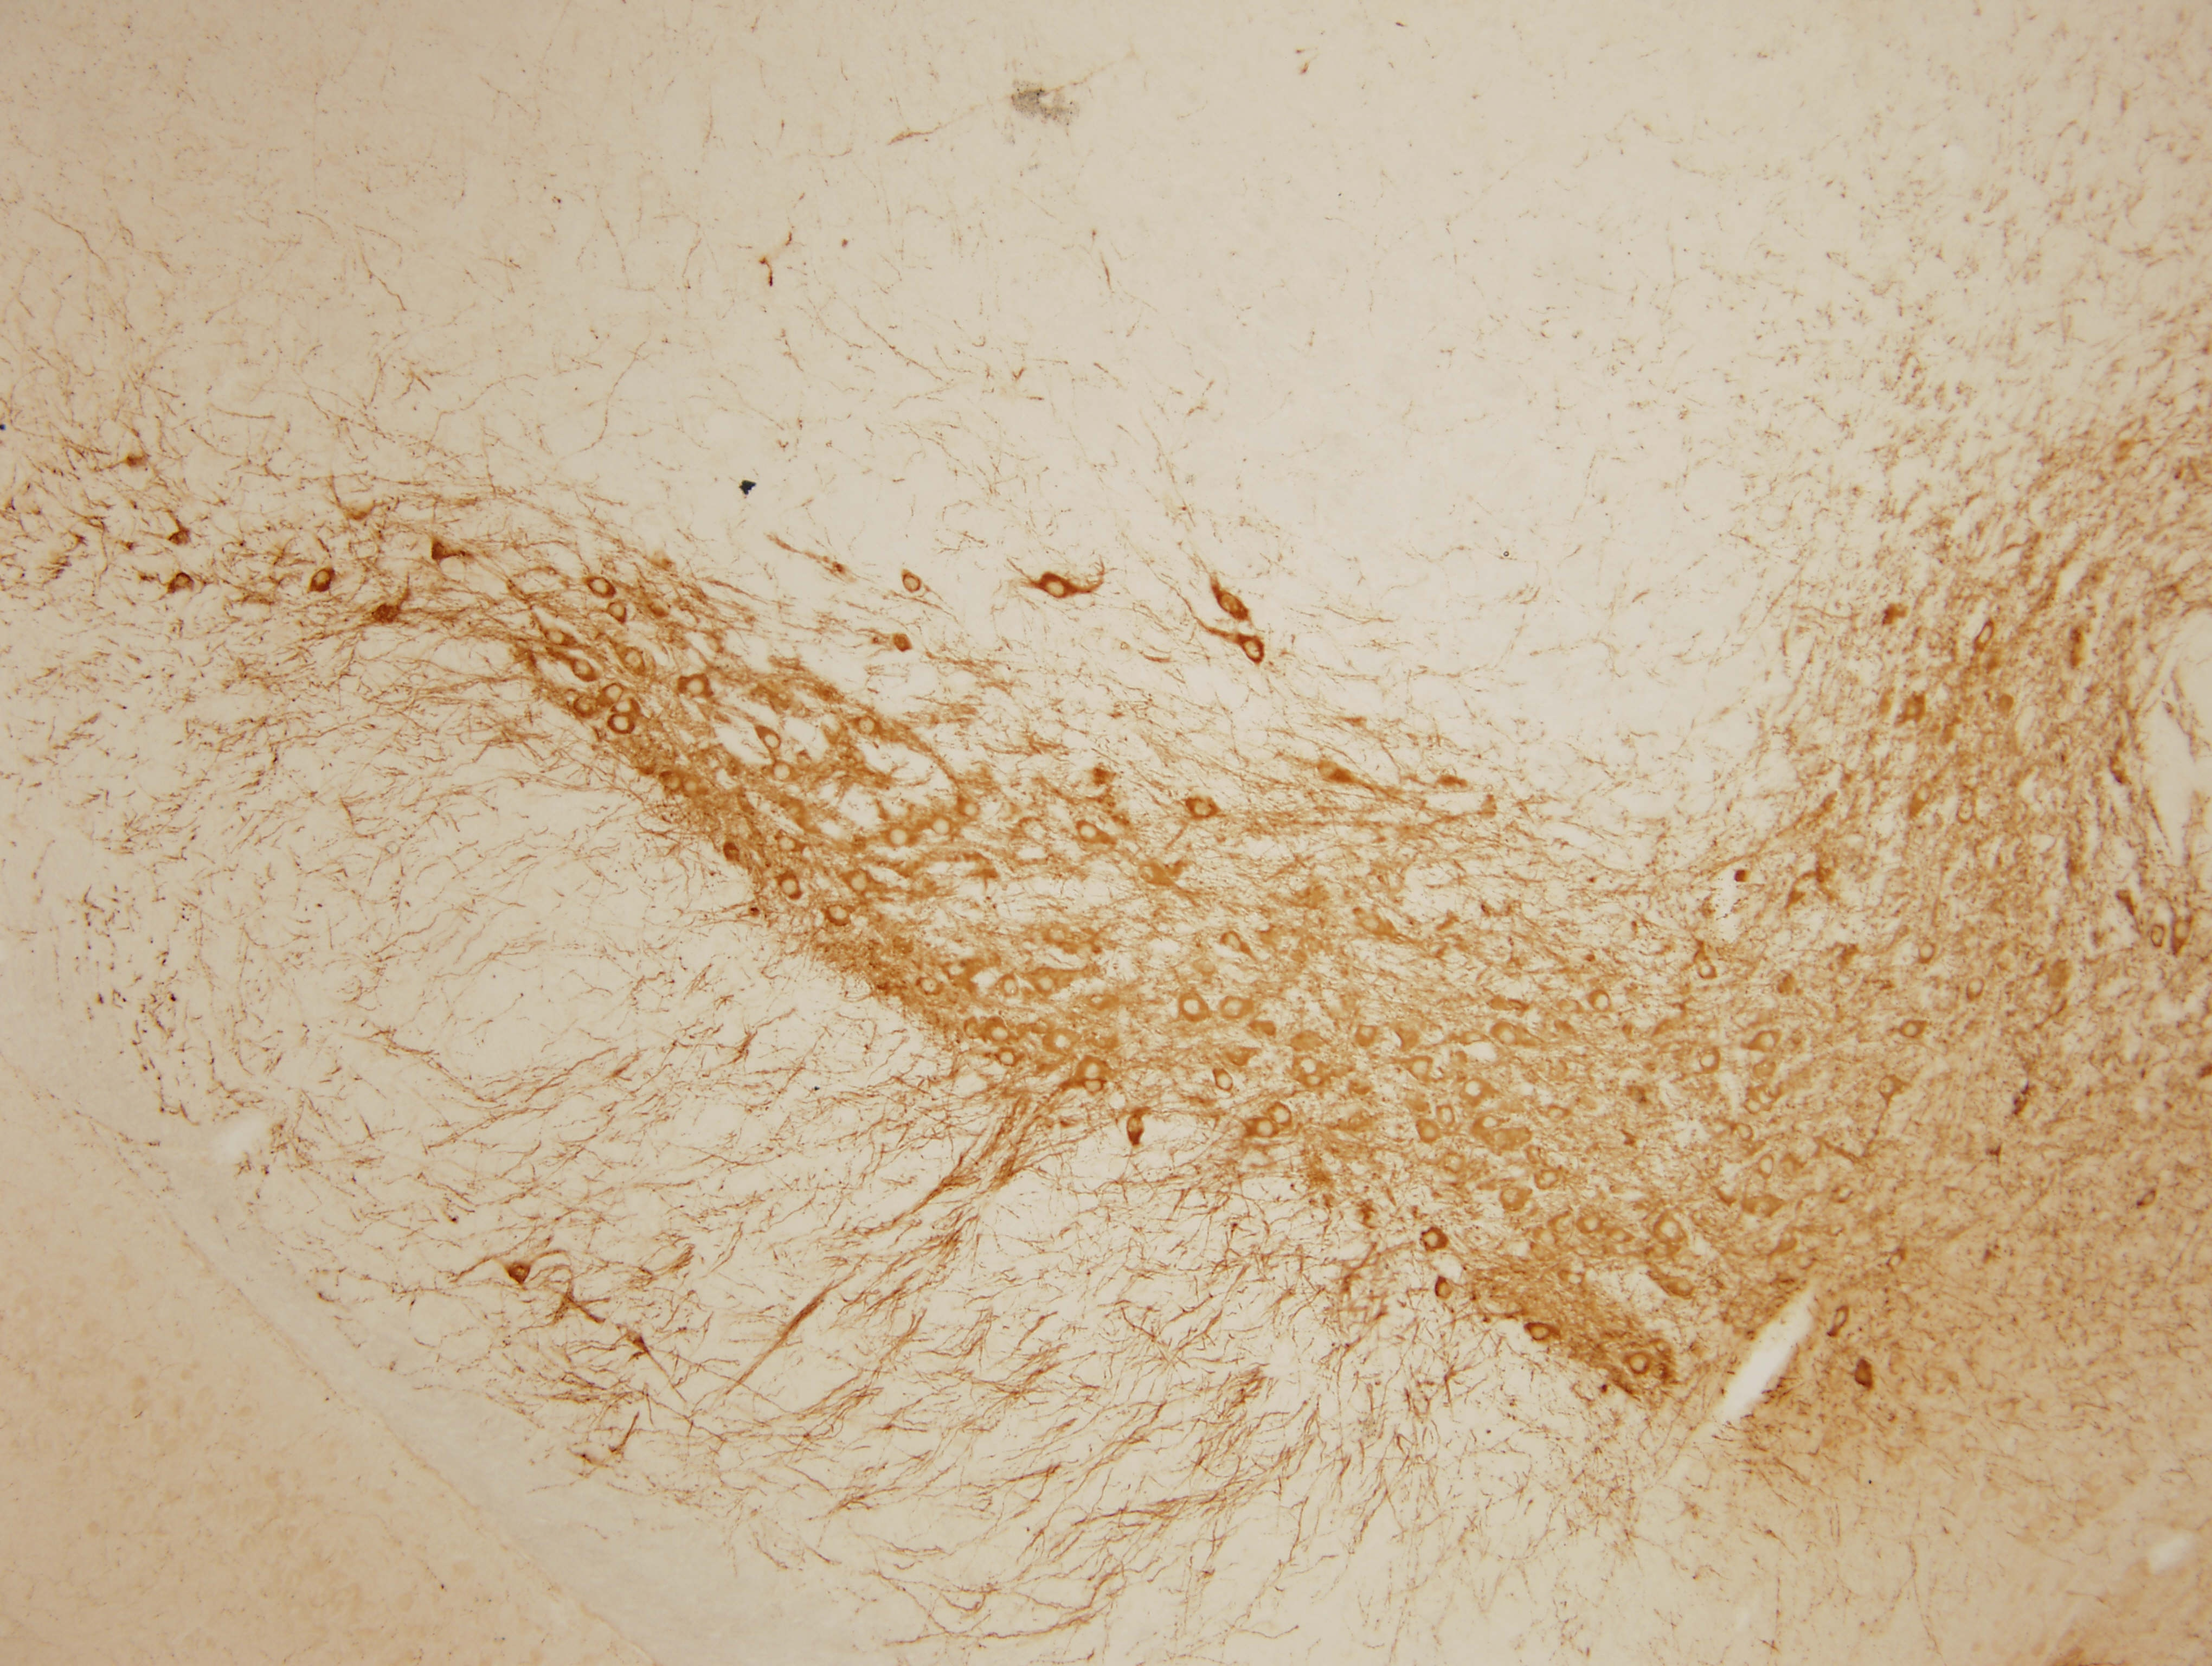neuron: (1822, 1306, 1855, 1339), (1896, 696, 1929, 730), (1019, 816, 1051, 849), (1046, 1029, 1079, 1061), (1215, 586, 1249, 618), (1238, 635, 1271, 667), (1668, 1270, 1700, 1304), (1951, 796, 1983, 830), (1969, 621, 2000, 655), (1186, 795, 1217, 826), (544, 626, 570, 653), (568, 656, 595, 683), (588, 574, 614, 600), (602, 681, 628, 707), (605, 598, 631, 625), (619, 648, 645, 674), (684, 676, 710, 702), (759, 728, 785, 754), (768, 760, 794, 786), (775, 833, 801, 859), (825, 900, 852, 926), (846, 870, 873, 896), (853, 712, 880, 738), (887, 824, 913, 851), (899, 569, 925, 595), (916, 973, 943, 999), (927, 814, 953, 840), (944, 956, 970, 982), (958, 798, 984, 824), (986, 1020, 1012, 1046), (993, 1045, 1019, 1071), (997, 973, 1023, 999), (1033, 971, 1060, 998), (1079, 821, 1105, 847), (1079, 1055, 1105, 1081), (1084, 989, 1110, 1015), (1124, 1115, 1151, 1141), (1180, 996, 1207, 1022), (1212, 1067, 1238, 1094), (1221, 994, 1247, 1020), (1252, 1116, 1278, 1143), (1353, 1020, 1380, 1046), (1432, 1102, 1458, 1129), (1441, 1153, 1467, 1179), (1497, 1024, 1523, 1050), (1527, 1318, 1553, 1344), (1535, 1167, 1562, 1193), (1591, 991, 1617, 1017), (1624, 1351, 1651, 1377), (1731, 1118, 1757, 1145), (1754, 1029, 1780, 1055), (1756, 1153, 1782, 1179), (1831, 1181, 1857, 1208), (1883, 1249, 1909, 1276), (2146, 924, 2172, 950), (308, 565, 334, 591), (607, 712, 633, 737), (778, 875, 803, 901), (1044, 576, 1068, 602), (1269, 1101, 1294, 1127), (1409, 1055, 1434, 1081), (1462, 1076, 1486, 1102), (1497, 1183, 1523, 1208), (1579, 1211, 1603, 1237), (1656, 1216, 1680, 1242), (1696, 1048, 1721, 1074), (1964, 976, 1990, 1001), (1565, 1269, 1584, 1290), (1696, 963, 1717, 982), (1743, 1097, 1764, 1116), (1876, 1076, 1897, 1096), (1901, 1020, 1922, 1039), (1913, 786, 1934, 805), (664, 773, 684, 793), (684, 777, 703, 796), (1084, 1078, 1103, 1097), (1299, 1057, 1318, 1076), (1304, 1073, 1324, 1092), (1422, 1230, 1441, 1249), (1481, 1113, 1500, 1132), (1918, 941, 1937, 961)
